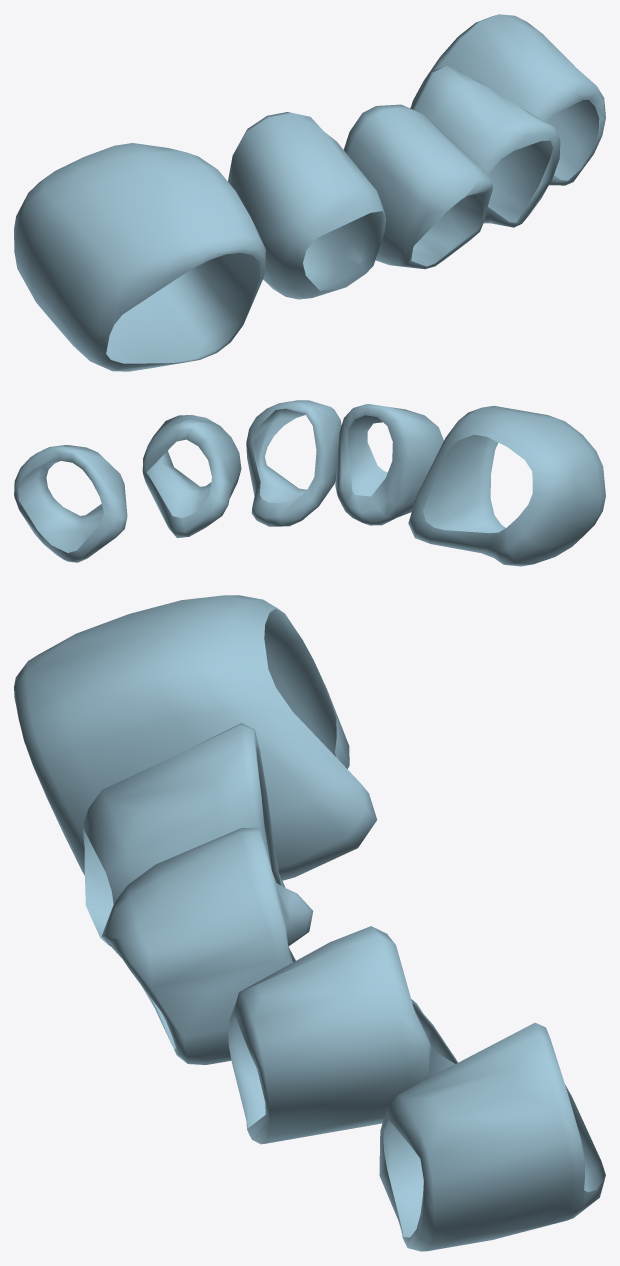
Rendered from articulacoes-articular-capsules-of-metatarsophalangeal-joints-l.glb.
3 views of the same model, one above another, from view 1: azimuth 30°, elevation 25°; view 2: azimuth 150°, elevation 25°; view 3: azimuth 270°, elevation 25° (orthographic). The views are drawn at different scales.
Parts seen in each view (by area): view 1: Articular capsules of metatarsophalangeal joints.l; view 2: Articular capsules of metatarsophalangeal joints.l; view 3: Articular capsules of metatarsophalangeal joints.l.
Boxes of the visible parts, x1,y1,x2,y2 form: Articular capsules of metatarsophalangeal joints.l: (14,14,605,371); Articular capsules of metatarsophalangeal joints.l: (14,400,605,566); Articular capsules of metatarsophalangeal joints.l: (14,595,605,1251).
Size of the model in its own units: 0.0808 by 0.0247 by 0.0454.
